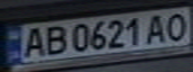0: (69, 20, 93, 53)
1: (124, 15, 145, 46)
2: (106, 16, 127, 50)
6: (87, 18, 112, 52)
A: (18, 25, 48, 60), (142, 11, 172, 44)
B: (39, 22, 69, 56)
O: (160, 10, 190, 43)
